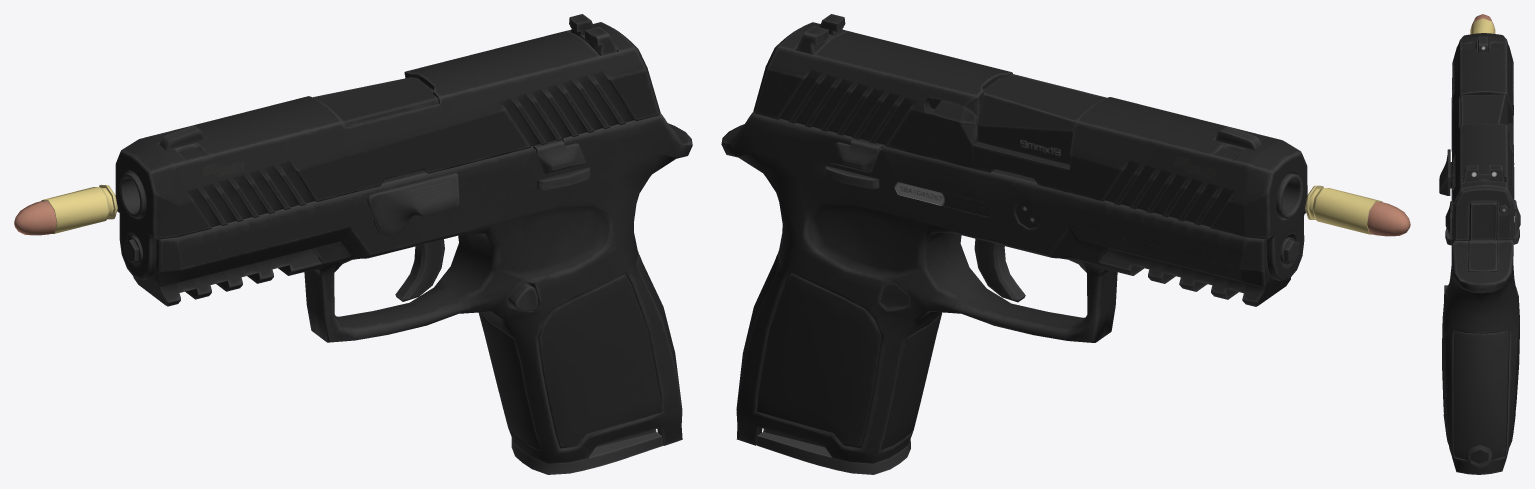
Rendered from sig-sauer-p320-493356.fbx.
3 views of the same model, side by side, from view 1: azimuth 30°, elevation 25°; view 2: azimuth 150°, elevation 25°; view 3: azimuth 270°, elevation 25° (orthographic). The views are drawn at different scales.
Parts seen in each view (by area): view 1: Pistole_Sig_Sauer_P320_Compact, Pistole_Sig_Sauer_P320_Compact_Assambly, Sig_Sauer_P320_Compact_Bullet_003, Pistole_Sig_Sauer_P320_Compact_Fuse, Sig_Sauer_P320_Compact_Magazine, Pistole_Sig_Sauer_P320_Compact_Trigger; view 2: Pistole_Sig_Sauer_P320_Compact, Pistole_Sig_Sauer_P320_Compact_Assambly, Sig_Sauer_P320_Compact_Bullet_003, Sig_Sauer_P320_Compact_Magazine, Pistole_Sig_Sauer_P320_Compact_Trigger; view 3: Pistole_Sig_Sauer_P320_Compact, Pistole_Sig_Sauer_P320_Compact_Assambly, Sig_Sauer_P320_Compact_Bullet_003, Pistole_Sig_Sauer_P320_Compact_Fuse.
Part boxes in pixels (left/top/right/bottom): Pistole_Sig_Sauer_P320_Compact: left=119, top=113, right=692, bottom=463; Pistole_Sig_Sauer_P320_Compact_Assambly: left=115, top=14, right=660, bottom=280; Sig_Sauer_P320_Compact_Bullet_003: left=14, top=184, right=117, bottom=235; Pistole_Sig_Sauer_P320_Compact_Fuse: left=367, top=173, right=459, bottom=236; Sig_Sauer_P320_Compact_Magazine: left=511, top=429, right=662, bottom=474; Pistole_Sig_Sauer_P320_Compact_Trigger: left=395, top=239, right=444, bottom=301; Pistole_Sig_Sauer_P320_Compact: left=721, top=112, right=1303, bottom=463; Pistole_Sig_Sauer_P320_Compact_Assambly: left=753, top=14, right=1307, bottom=280; Sig_Sauer_P320_Compact_Bullet_003: left=1305, top=185, right=1410, bottom=236; Sig_Sauer_P320_Compact_Magazine: left=756, top=428, right=910, bottom=474; Pistole_Sig_Sauer_P320_Compact_Trigger: left=974, top=238, right=1025, bottom=302; Pistole_Sig_Sauer_P320_Compact: left=1442, top=97, right=1520, bottom=474; Pistole_Sig_Sauer_P320_Compact_Assambly: left=1452, top=33, right=1514, bottom=241; Sig_Sauer_P320_Compact_Bullet_003: left=1470, top=14, right=1495, bottom=34; Pistole_Sig_Sauer_P320_Compact_Fuse: left=1439, top=149, right=1450, bottom=195.
Bounding box in the file's own units: 21.27 × 12.7 × 3.33.
